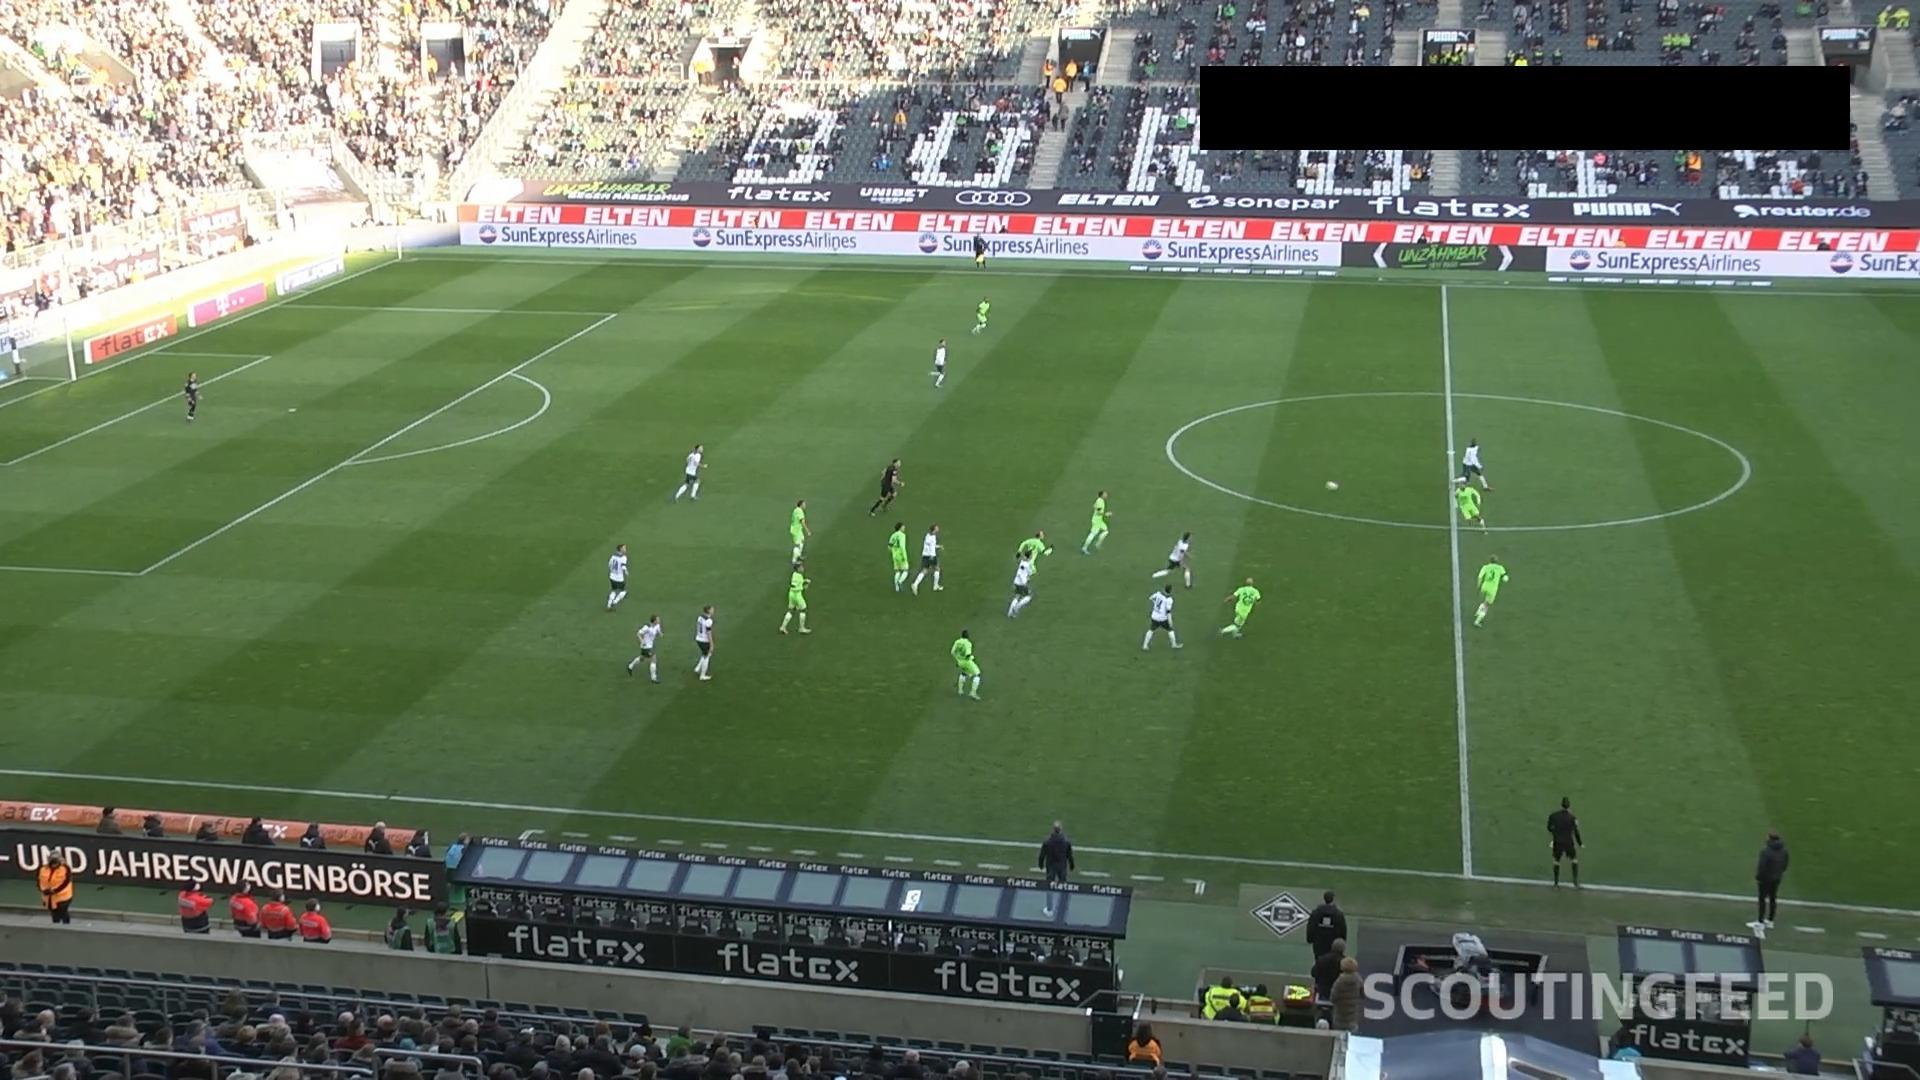ball: (1324, 480, 1338, 490)
coach: (1037, 820, 1075, 916), (1754, 830, 1789, 925)
player: (1005, 529, 1054, 618), (1140, 582, 1182, 650), (1218, 574, 1260, 638), (1472, 554, 1508, 627), (777, 559, 812, 634), (625, 614, 662, 682), (909, 523, 943, 595), (1151, 530, 1193, 588), (950, 628, 982, 699), (1080, 488, 1112, 554), (1451, 475, 1487, 533), (1006, 550, 1036, 618), (673, 442, 707, 501), (1456, 437, 1492, 491), (692, 603, 715, 680), (886, 521, 910, 593), (604, 543, 629, 610), (788, 498, 811, 566), (182, 370, 201, 421), (929, 338, 947, 387), (971, 295, 990, 334)
referee: (1546, 796, 1583, 890), (1305, 889, 1347, 968), (867, 456, 904, 516), (971, 233, 987, 269)
